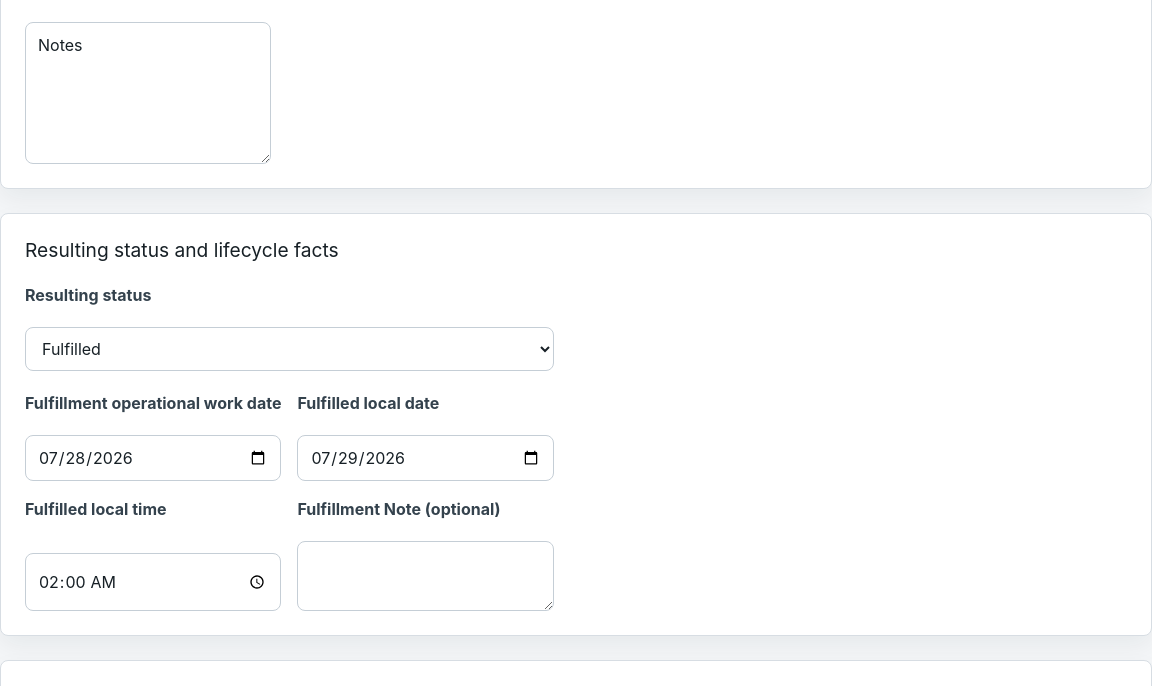
Test: Supply Request correction routes and components › switches status-specific fields without retaining incompatible controls
(page scrolled)
Expected: the date field labelled "Fulfilled local date" is shown, [297, 435, 554, 481]
Select "Cancelled" in the dropdown labelled "Resulting status". click: (289, 349)
box: [25, 327, 554, 371]
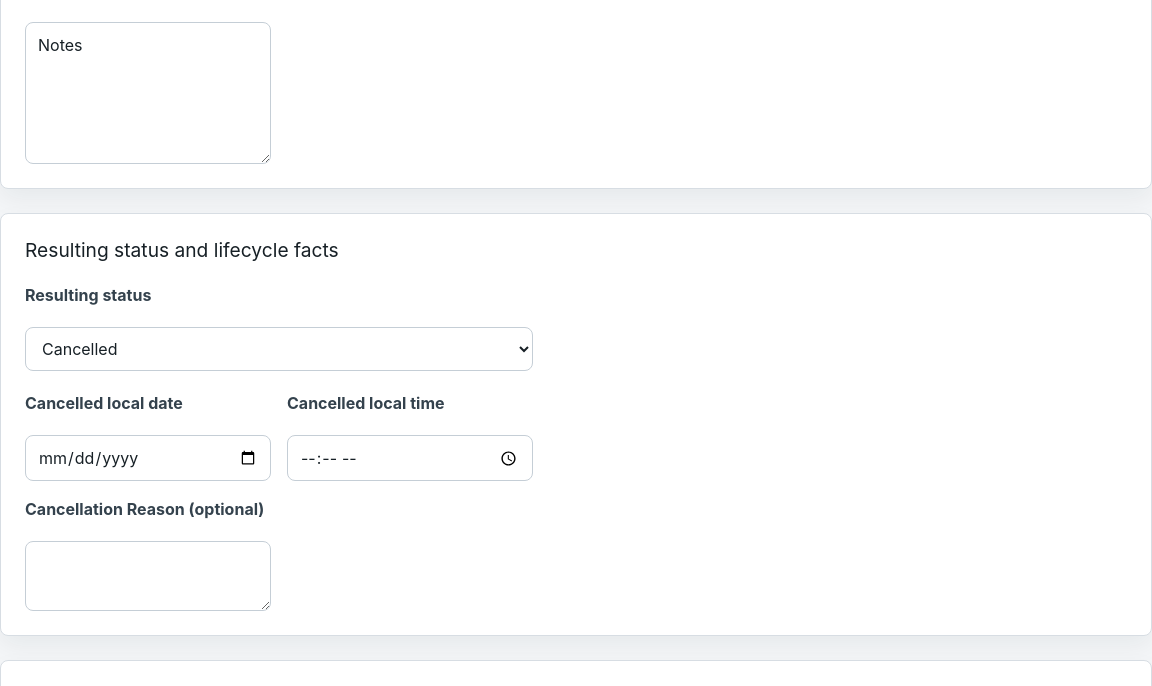
Now the label labelled "Fulfilled local date" is gone
Now the date field labelled "Cancelled local date" is shown, box [25, 435, 271, 481]
Select "Requested" in the dropdown labelled "Resulting status". click: (279, 349)
box: [25, 327, 533, 371]
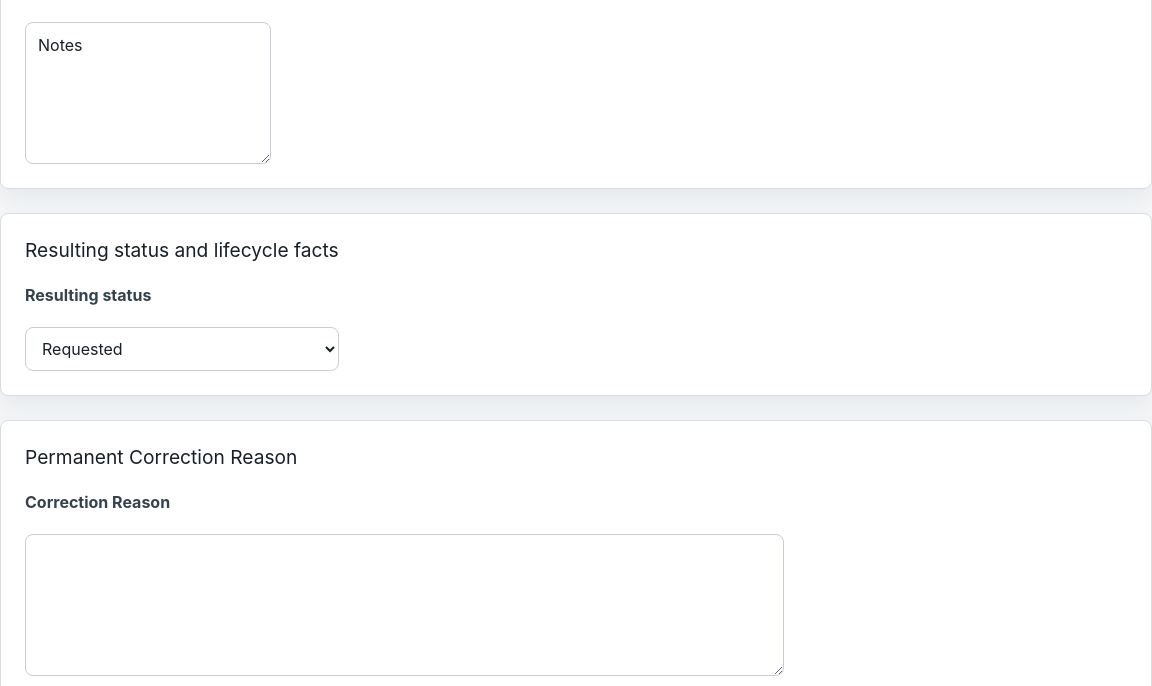
Now the label labelled "Cancelled local date" is gone
